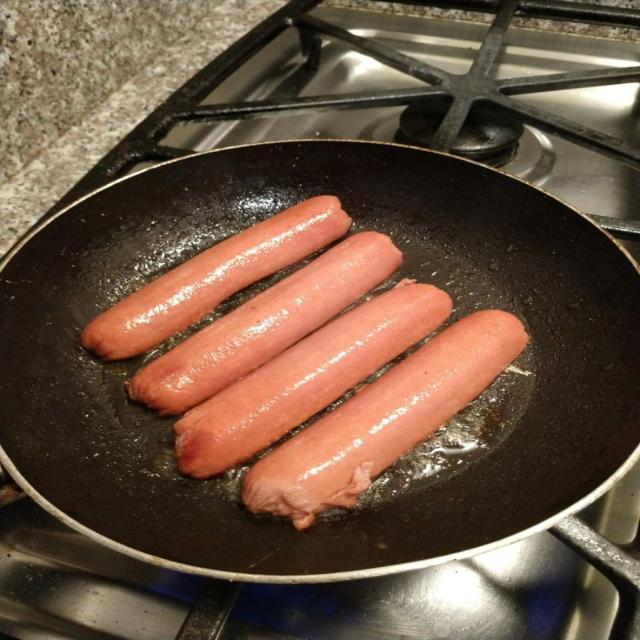sausage: (242, 310, 528, 529), (174, 280, 452, 478), (128, 232, 401, 414), (81, 196, 351, 360)
